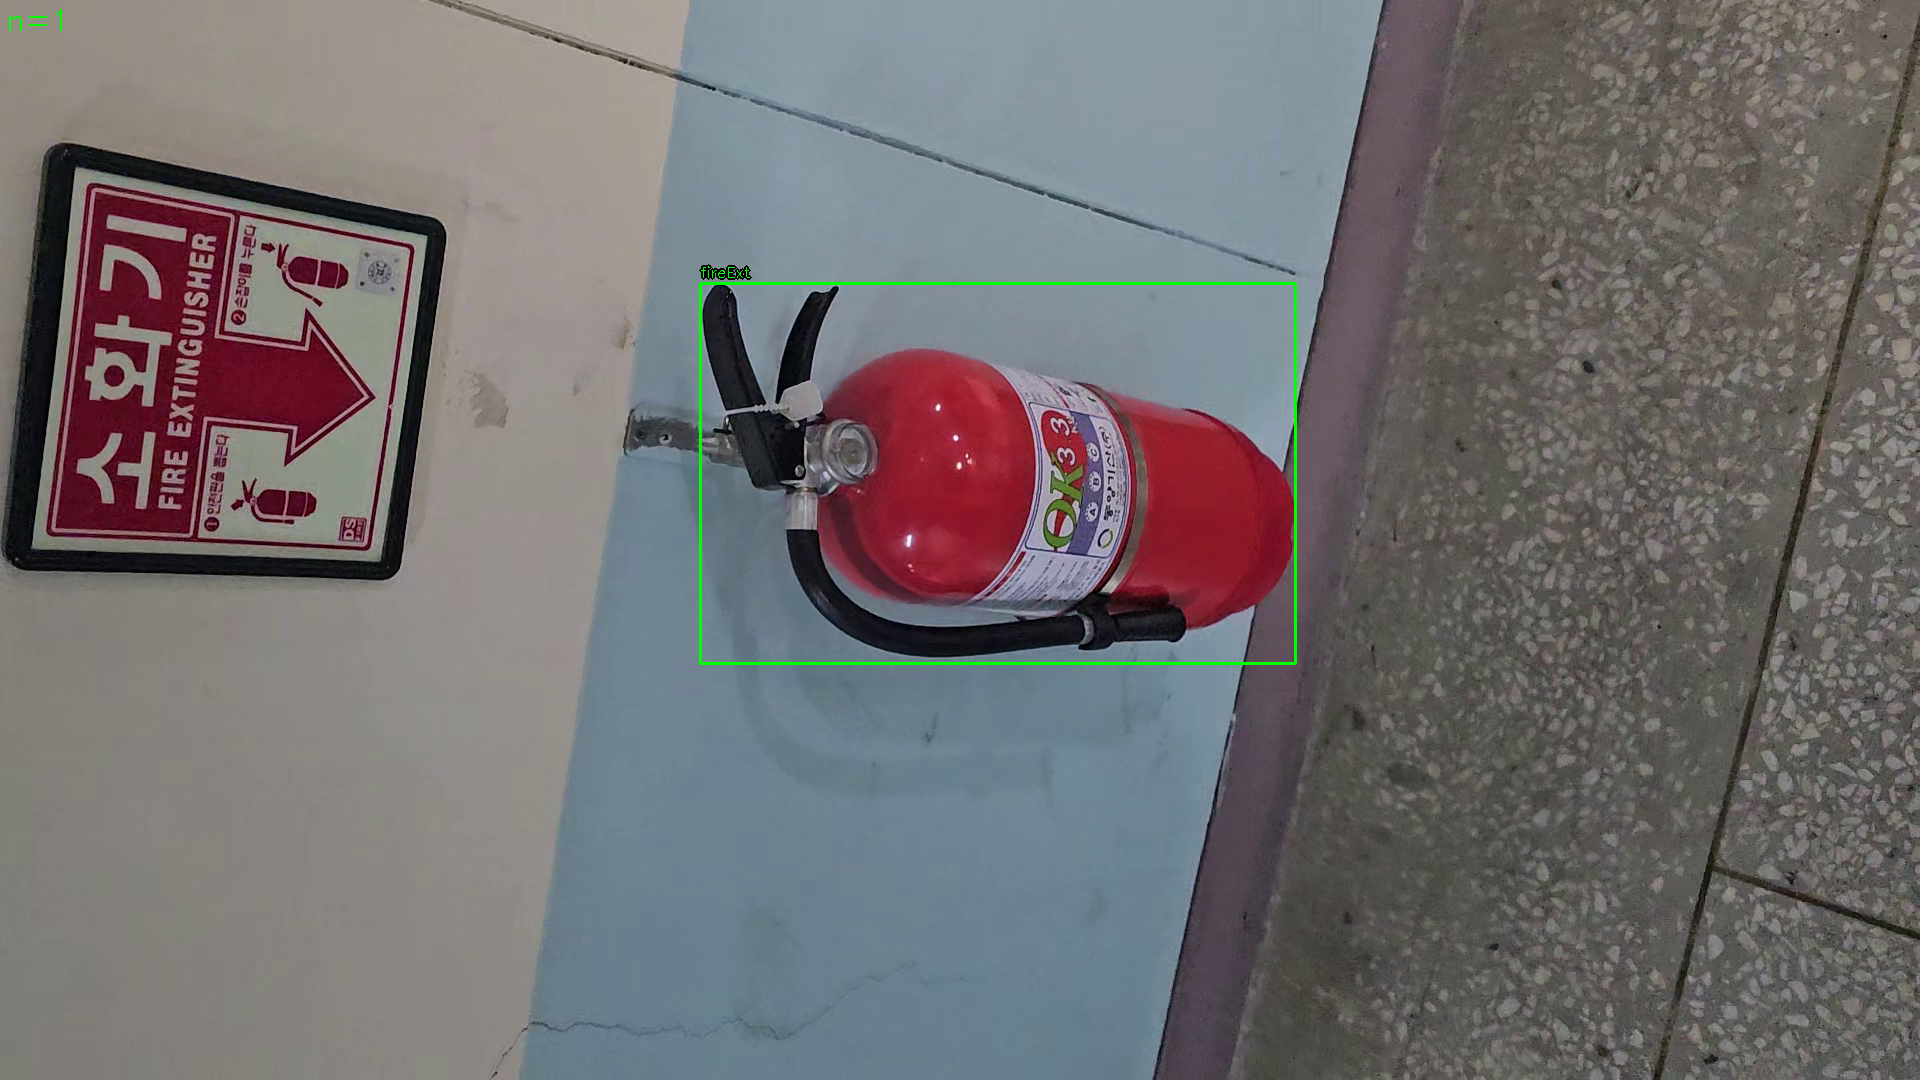lane: (700, 284, 1296, 665)
